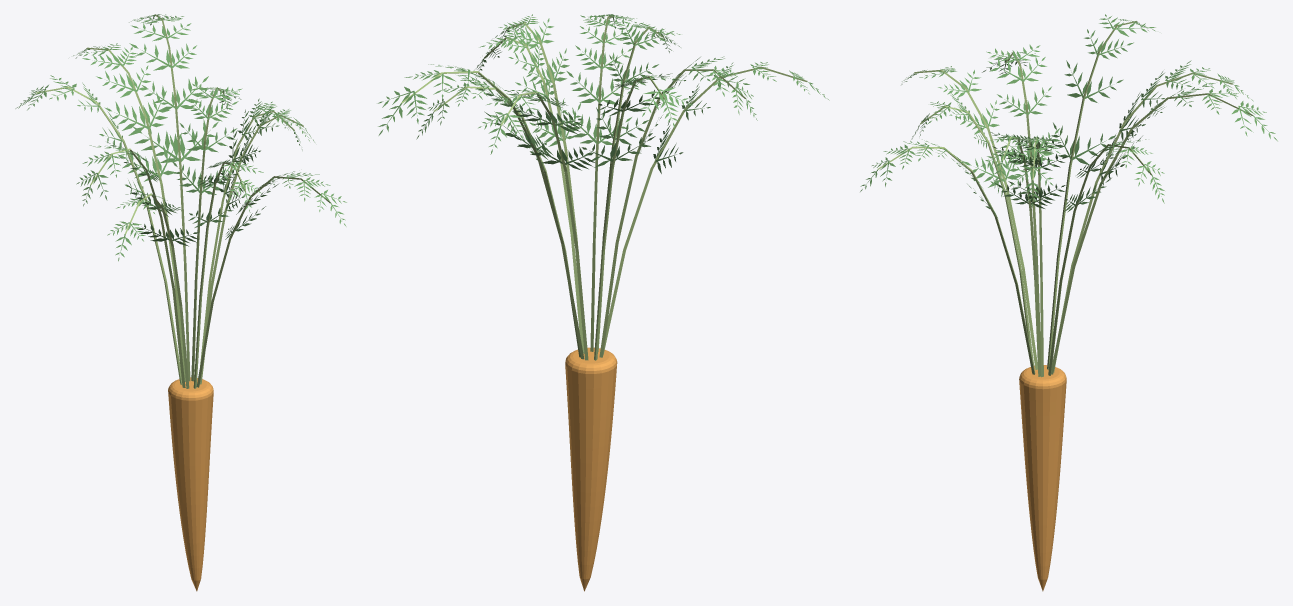
Rendered from carrot_harvest_v23.glb.
The picture shows the model from 3 angles, left to right: view 1: azimuth 30°, elevation 25°; view 2: azimuth 150°, elevation 25°; view 3: azimuth 270°, elevation 25°; orthographic projection. The views are drawn at different scales.
Visible parts, largest first — view 1: plant; view 2: plant; view 3: plant.
Part boxes in pixels (left/top/right/bottom): plant: left=15, top=14, right=346, bottom=591; plant: left=377, top=14, right=829, bottom=591; plant: left=860, top=14, right=1277, bottom=591.
Size of the model in its own units: 0.2448 by 0.4735 by 0.3451.
1 material, 1 textured.
